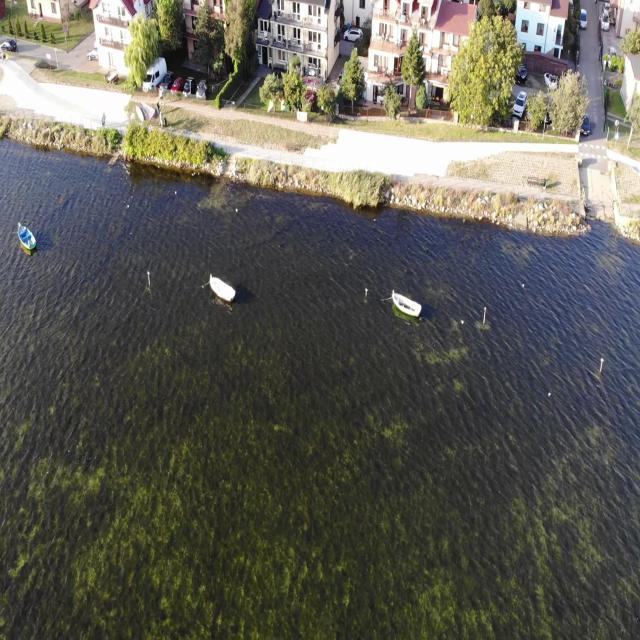boat: (210, 271, 237, 306), (391, 288, 422, 318), (16, 220, 38, 256)
